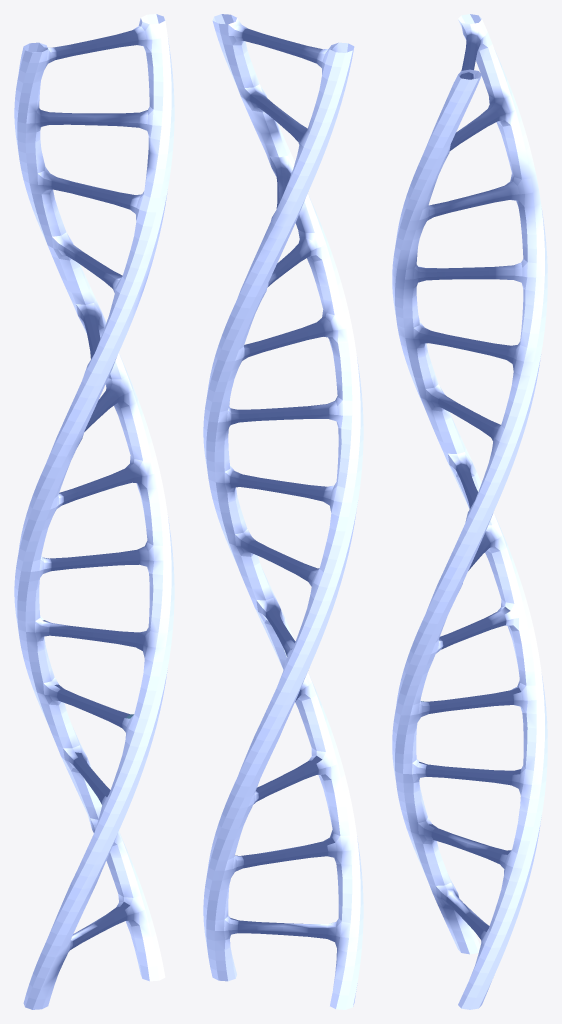
The model's file is dna-2-painted.glb.
3 views of the same model, side by side, from view 1: azimuth 30°, elevation 25°; view 2: azimuth 150°, elevation 25°; view 3: azimuth 270°, elevation 25° (orthographic). The views are drawn at different scales.
Parts seen in each view (by area): view 1: dna2.001; view 2: dna2.001; view 3: dna2.001.
Boxes of the visible parts, box(x1,y1,x2,y2) form: dna2.001: box(14, 14, 174, 1009); dna2.001: box(203, 14, 363, 1009); dna2.001: box(392, 14, 547, 1009).
Size of the model in its own units: 1.64 by 10.79 by 1.64.
